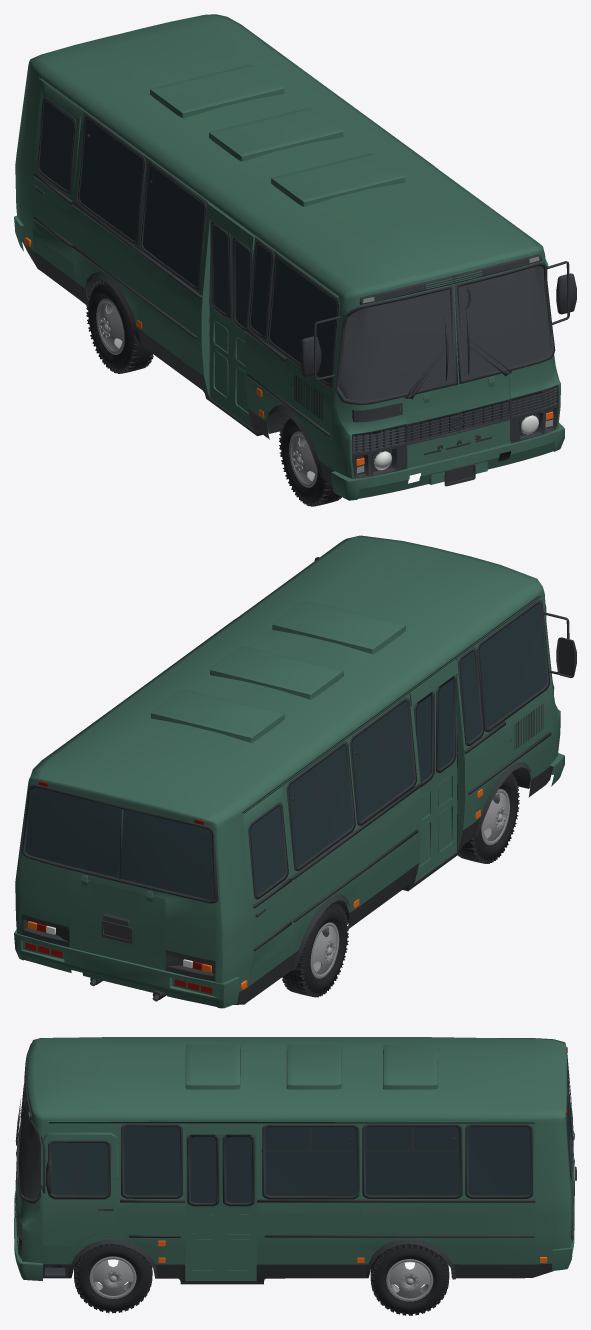
Rendered from paz3205.glb.
3 views of the same model, one above another, from view 1: azimuth 30°, elevation 25°; view 2: azimuth 150°, elevation 25°; view 3: azimuth 270°, elevation 25° (orthographic). The views are drawn at different scales.
Visible parts, largest first — view 1: chassisbody, interior, glass, chassis_trim, wheel_rr, wheel_fr; view 2: chassisbody, glass, interior, wheel_rr, wheel_fr, chassis_trim; view 3: chassisbody, glass, interior, wheel_rl, wheel_fl, chassis_trim.
Boxes of the visible parts, <box> form: chassisbody: <box>14,14,564,500</box>; interior: <box>22,78,576,484</box>; glass: <box>39,101,337,382</box>; chassis_trim: <box>34,139,551,486</box>; wheel_rr: <box>86,279,153,373</box>; wheel_fr: <box>279,415,341,506</box>; chassisbody: <box>14,535,564,1008</box>; glass: <box>25,603,547,900</box>; interior: <box>21,557,576,1004</box>; wheel_rr: <box>282,903,348,997</box>; wheel_fr: <box>458,773,519,863</box>; chassis_trim: <box>90,639,573,1001</box>; chassisbody: <box>14,1037,574,1280</box>; glass: <box>51,1051,570,1202</box>; interior: <box>15,1043,576,1284</box>; wheel_rl: <box>370,1243,449,1315</box>; wheel_fl: <box>74,1243,152,1313</box>; chassis_trim: <box>15,1083,574,1217</box>.
Size of the model in its own units: 3.09 by 2.79 by 6.75.
